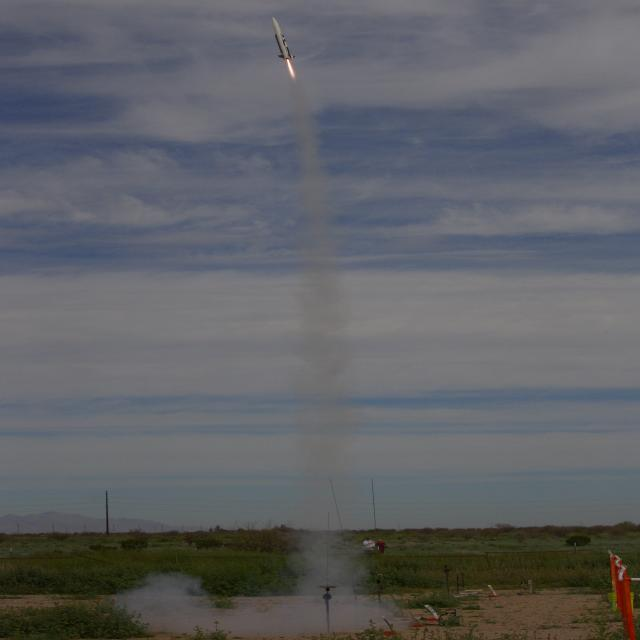Rocket: (271, 15, 297, 60)
